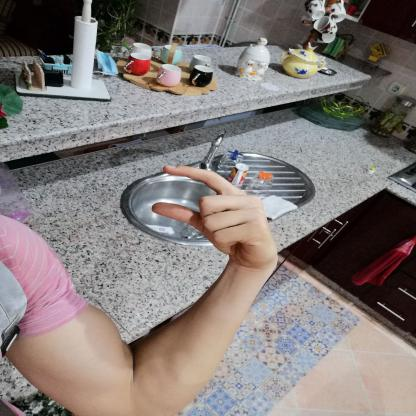DELL: (136, 155, 287, 272)
